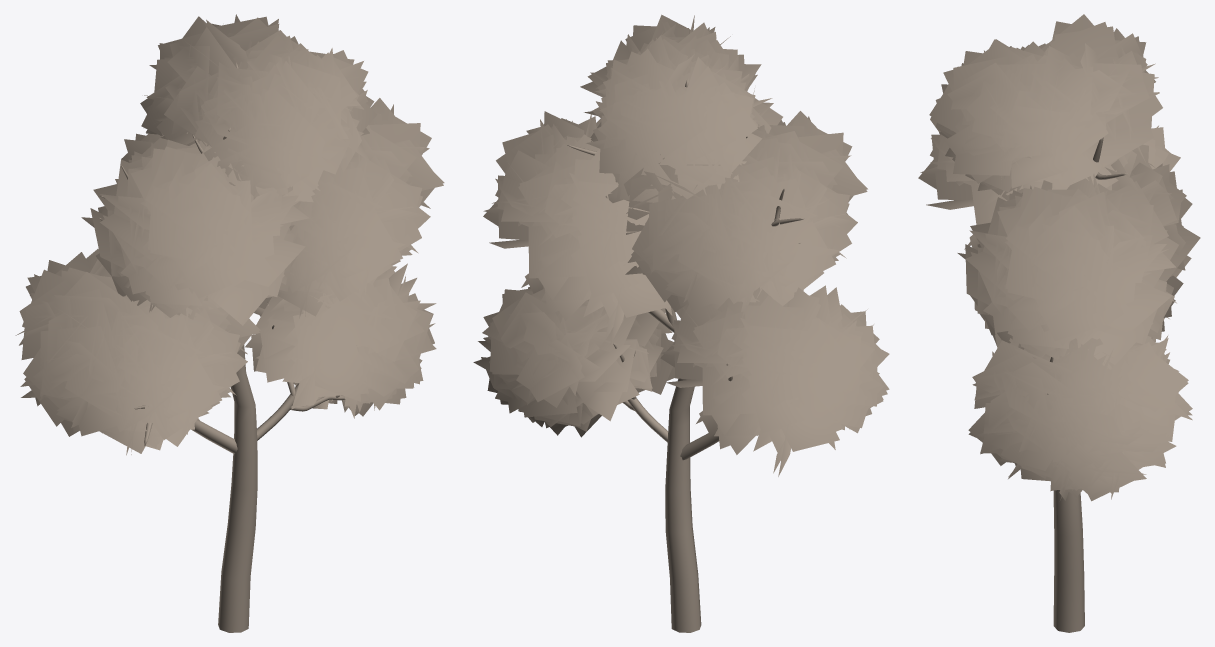
File: NormalTree_2.glb
3 renders of one model, left to right at view 1: azimuth 30°, elevation 25°; view 2: azimuth 150°, elevation 25°; view 3: azimuth 270°, elevation 25°, orthographic. The views are drawn at different scales.
Visible parts, largest first — view 1: NormalTree_Leaves, NormalTree_Bark; view 2: NormalTree_Leaves, NormalTree_Bark; view 3: NormalTree_Leaves, NormalTree_Bark.
Boxes of the visible parts, bbox=[...] form: NormalTree_Leaves: bbox=[15, 14, 444, 455]; NormalTree_Bark: bbox=[98, 62, 356, 632]; NormalTree_Leaves: bbox=[473, 14, 889, 476]; NormalTree_Bark: bbox=[567, 78, 804, 632]; NormalTree_Leaves: bbox=[918, 14, 1200, 501]; NormalTree_Bark: bbox=[1047, 137, 1126, 632].
Bounding box in the file's own units: 4.55 × 6.56 × 2.79.
